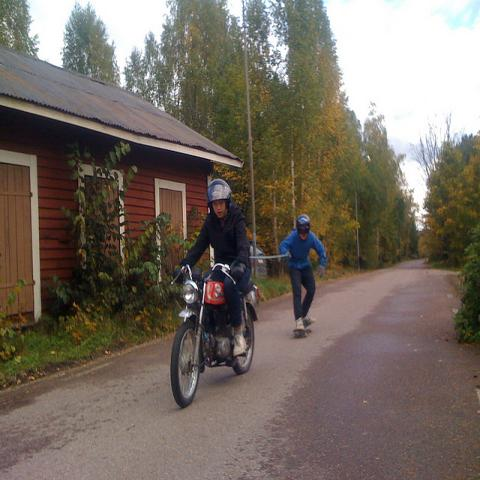motorcycle: (165, 259, 260, 407)
